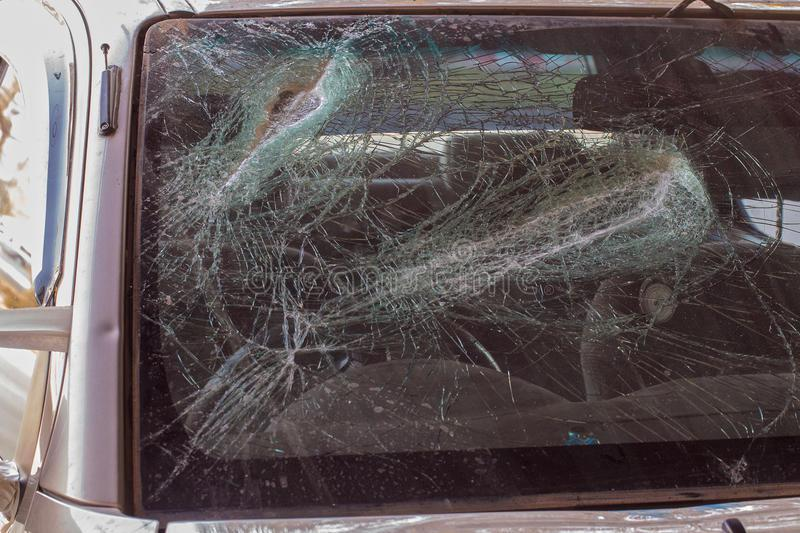Front-Windscreen-Damage: (110, 17, 799, 532)
